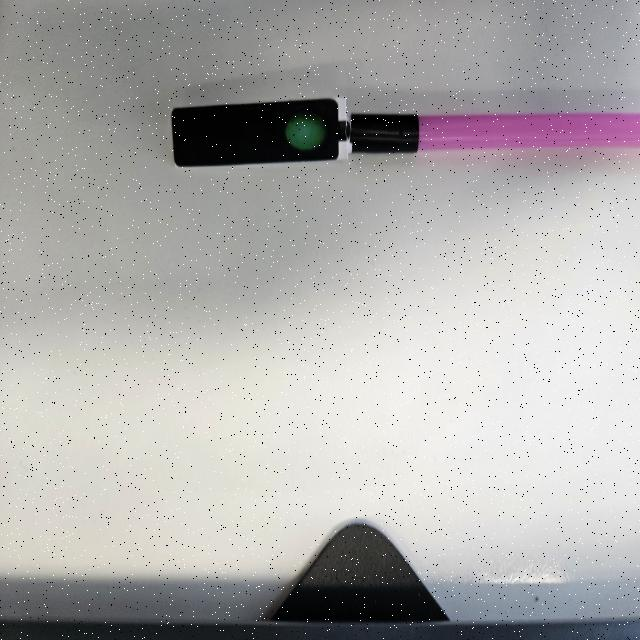traffic light: (171, 99, 352, 170)
